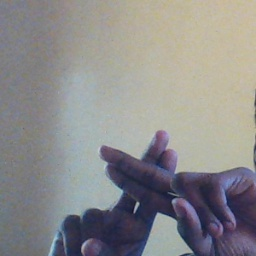F: (73, 124, 216, 251)
